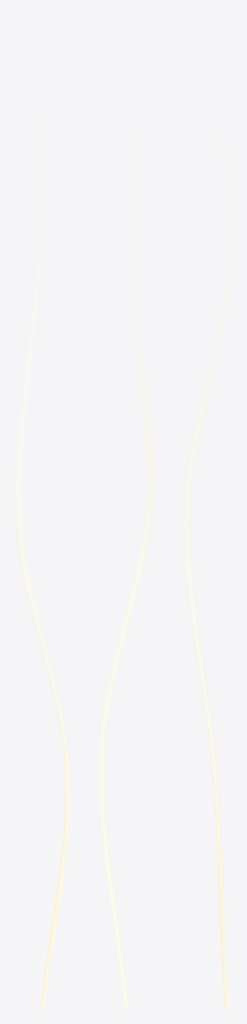
File: strand_c_danger.glb
3 views of the same model, side by side, from view 1: azimuth 30°, elevation 25°; view 2: azimuth 210°, elevation 25°; view 3: azimuth 330°, elevation 25° (orthographic).
Size of the model in its own units: 0.337 by 7 by 0.3138.
